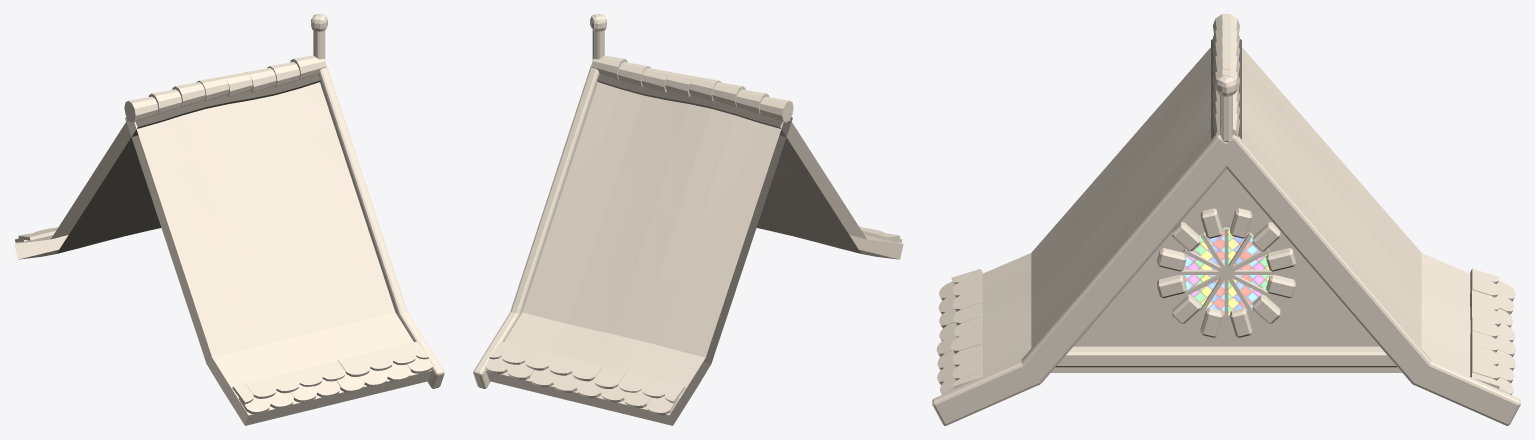
The model's file is SM_VK_Roof_Gable_Stone.fbx.
3 views of the same model, side by side, from view 1: azimuth 30°, elevation 25°; view 2: azimuth 150°, elevation 25°; view 3: azimuth 270°, elevation 25° (orthographic). The views are drawn at different scales.
Visible parts, largest first — view 1: SM_VK_Roof_Gable_Stone.001; view 2: SM_VK_Roof_Gable_Stone.001; view 3: SM_VK_Roof_Gable_Stone.001.
Part boxes in pixels (x1,y1,x2,y2): SM_VK_Roof_Gable_Stone.001: [14, 14, 444, 425]; SM_VK_Roof_Gable_Stone.001: [473, 14, 903, 425]; SM_VK_Roof_Gable_Stone.001: [932, 14, 1520, 425].
Bounding box in the file's own units: 4.23 × 5.89 × 9.04.
